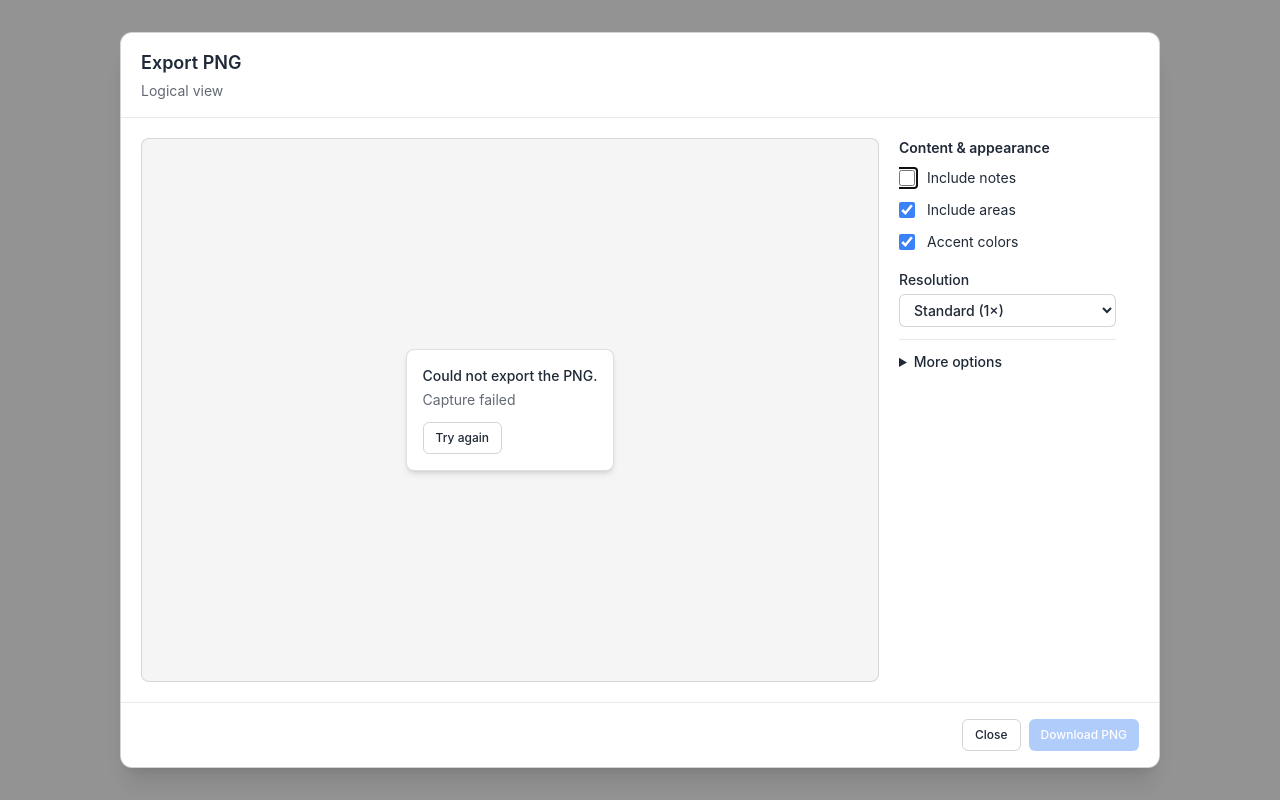
Test: PNG export preview › retries a failed preview with the current settings
expect the message shows "Capture failed": met, box x1=423 y1=391 x2=516 y2=408
Click the button "Try again" at (462, 438), box x1=423 y1=422 x2=502 y2=454
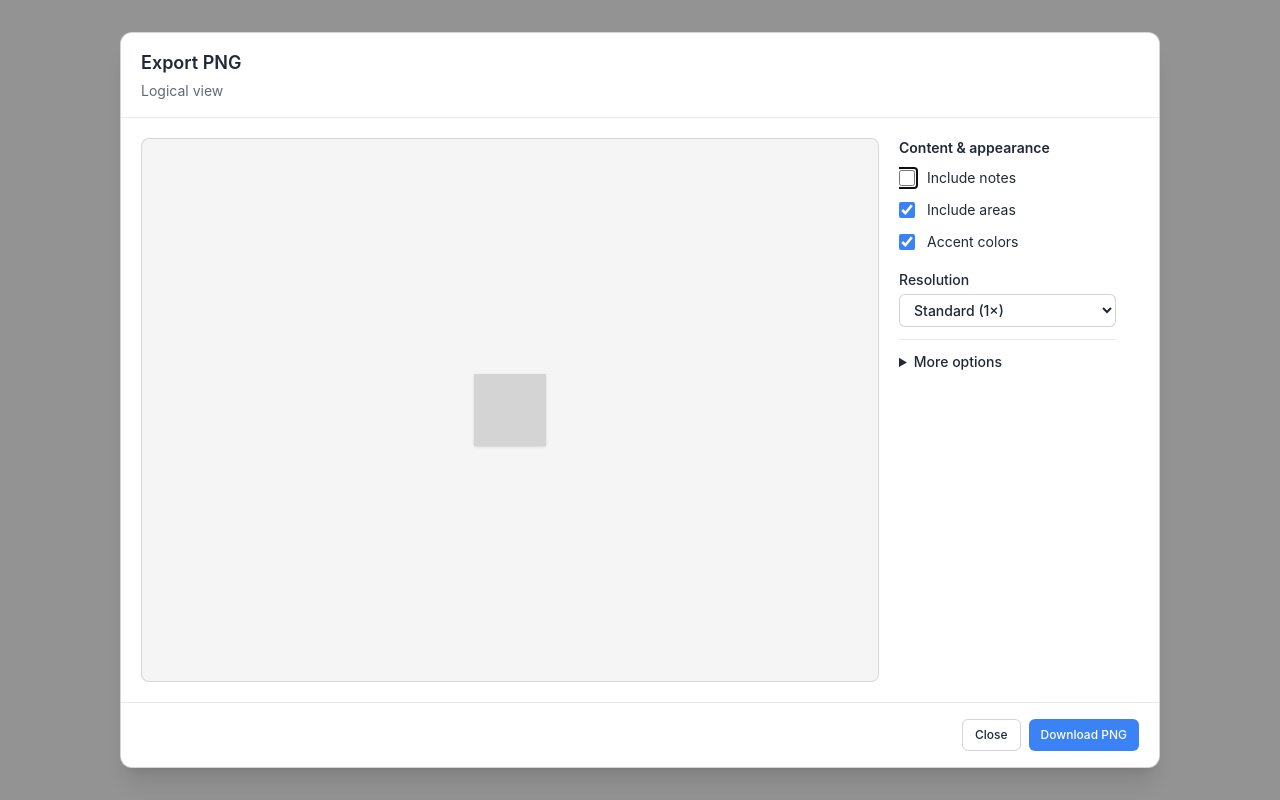
expect the link "Download PNG" is shown: met, box x1=1028 y1=719 x2=1139 y2=751
expect the message "Could not export the PNG. Capture failed Try again" is gone: met
